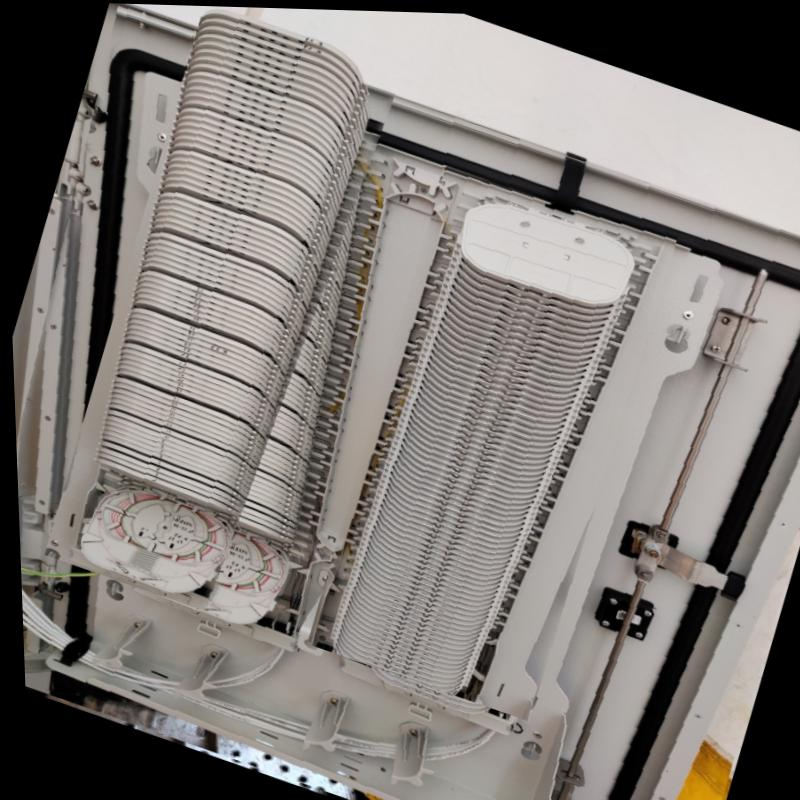NT-Gehause: (13, 12, 800, 800)
Spleiskassetten: (23, 1, 423, 628), (288, 150, 690, 725)
